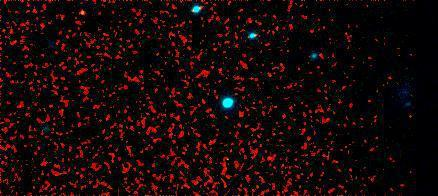star: (68, 0, 98, 28)
